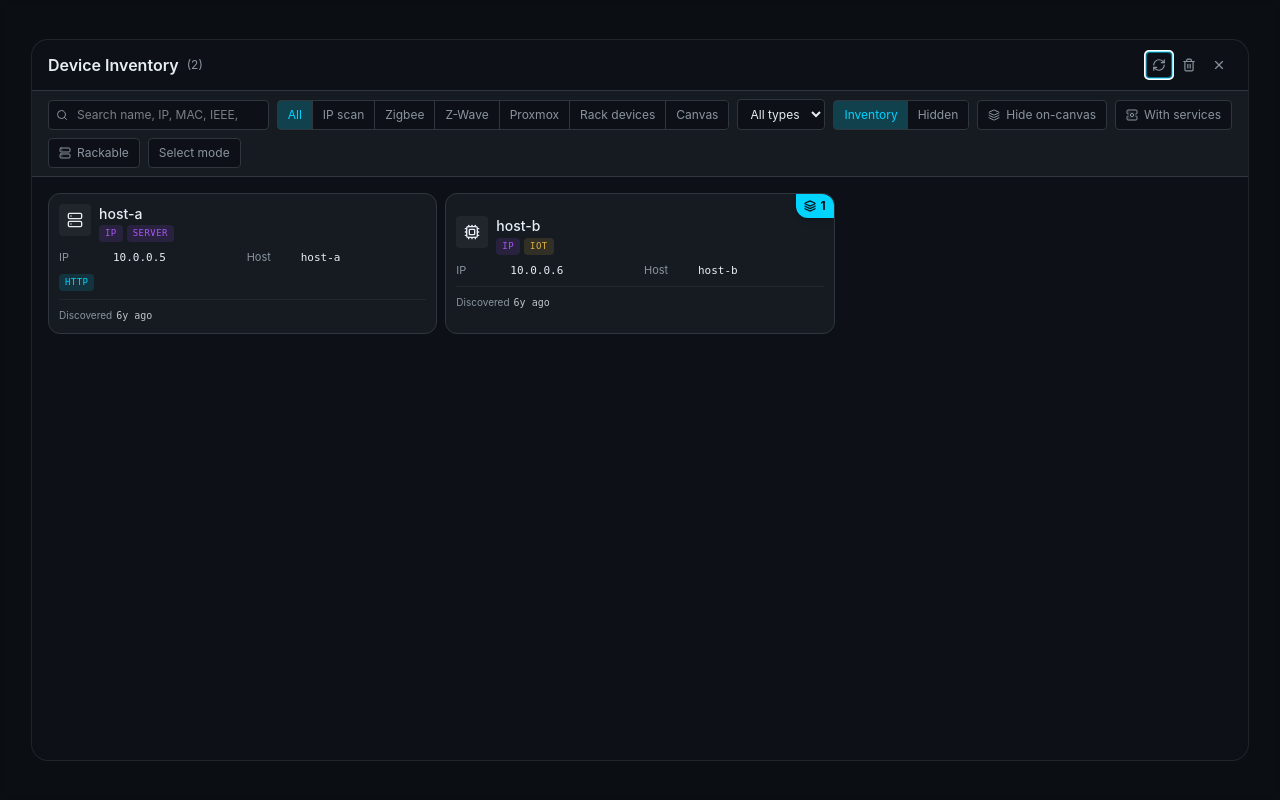
Test: PendingDevicesModal — Device Inventory › shows on-canvas devices by default and hides them when toggled off
This screenshot has width=1280, height=800.
Expected: the button with test id "pending-card-dev-b" is shown, [445,193,835,334]
Expected: the button with test id "pending-card-dev-a" is shown, [48,193,437,334]
Click the button "Hide on-canvas" at (1042, 114), box [977,100,1107,130]
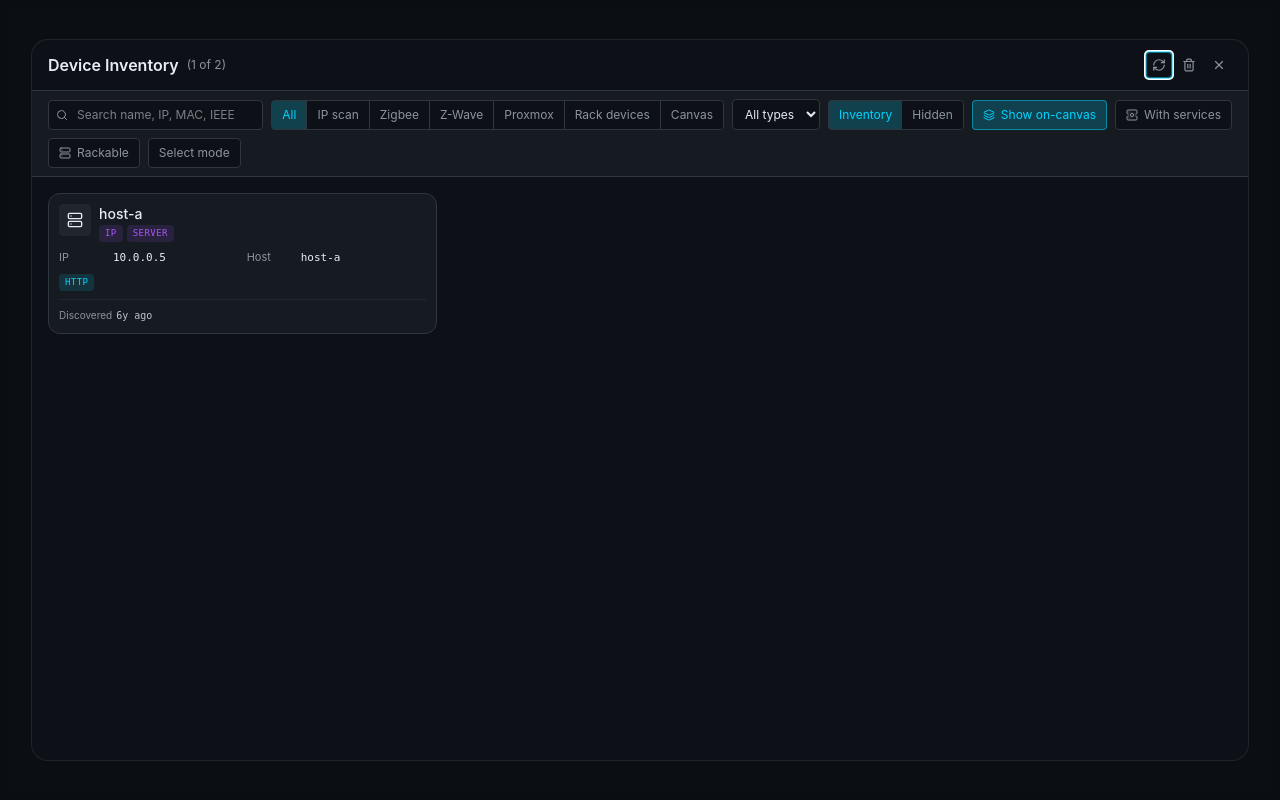
Expected: the button with test id "pending-card-dev-a" is shown, [48,193,437,334]
Expected: the button with test id "pending-card-dev-b" is gone
